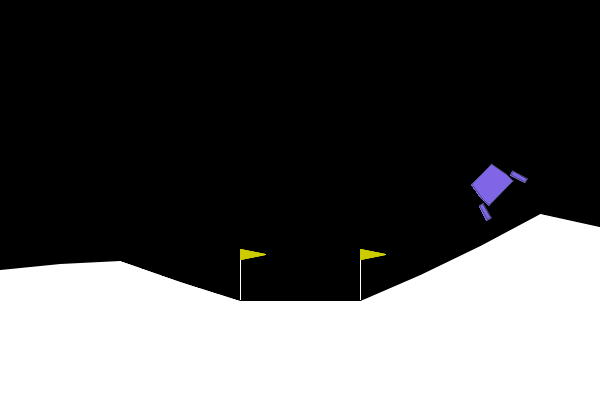lander: (459, 152, 529, 223)
